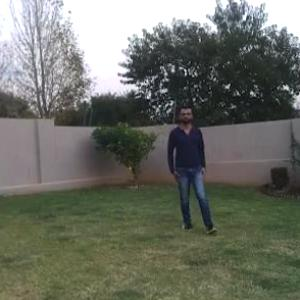follow: (171, 101, 206, 222)
